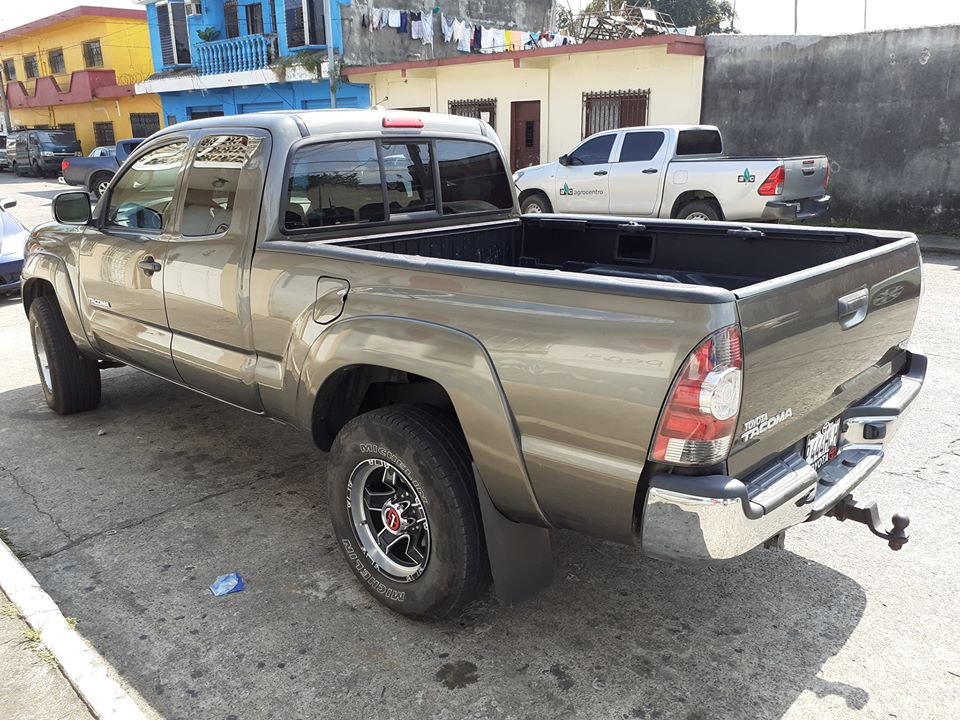pickup: (20, 106, 929, 625), (508, 122, 861, 228)
